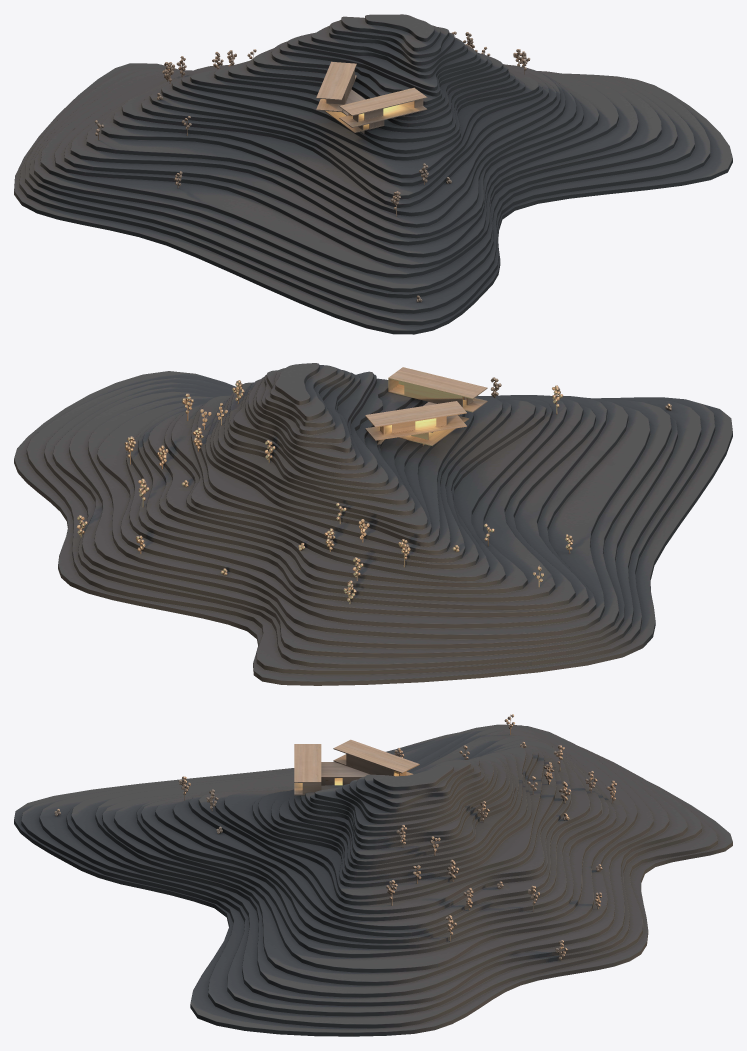
3 renders of one model, top to bottom at view 1: azimuth 30°, elevation 25°; view 2: azimuth 150°, elevation 25°; view 3: azimuth 270°, elevation 25°, orthographic. The views are drawn at different scales.
Parts seen in each view (by area): view 1: hill, house, trees; view 2: hill, house, trees; view 3: hill, house, trees.
Part boxes in pixels (x1,y1,x2,y2): hill: (14,14,732,334); house: (316,61,427,133); trees: (95,31,530,302); hill: (14,363,732,685); house: (365,367,487,445); trees: (77,377,671,604); hill: (14,724,732,1036); house: (294,739,419,795); trees: (54,714,616,960).
Size of the model in its own units: 7.99 by 1.6 by 7.99.
3 materials, 3 textured.
